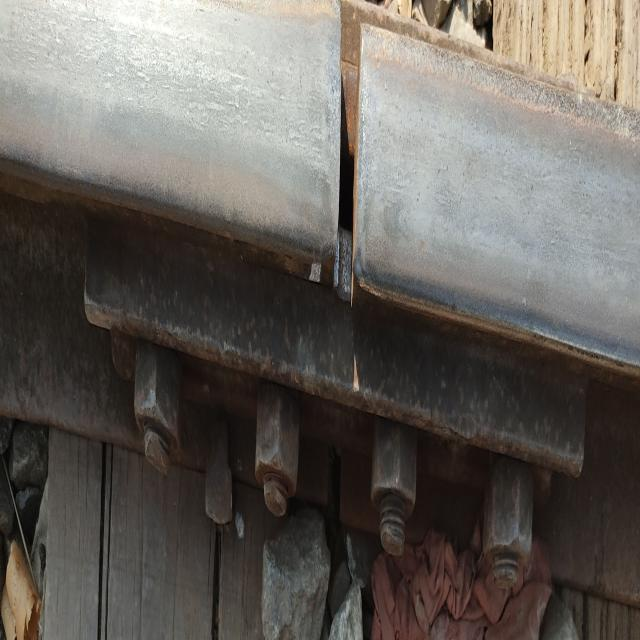Good Joint: (85, 240, 585, 585)
